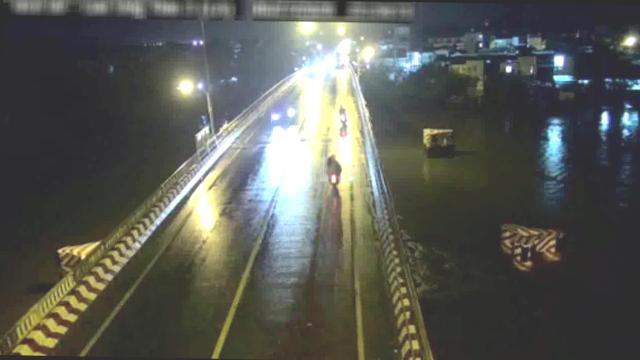Bike: (324, 153, 344, 183), (338, 104, 348, 127), (272, 110, 282, 122), (286, 103, 294, 115)
